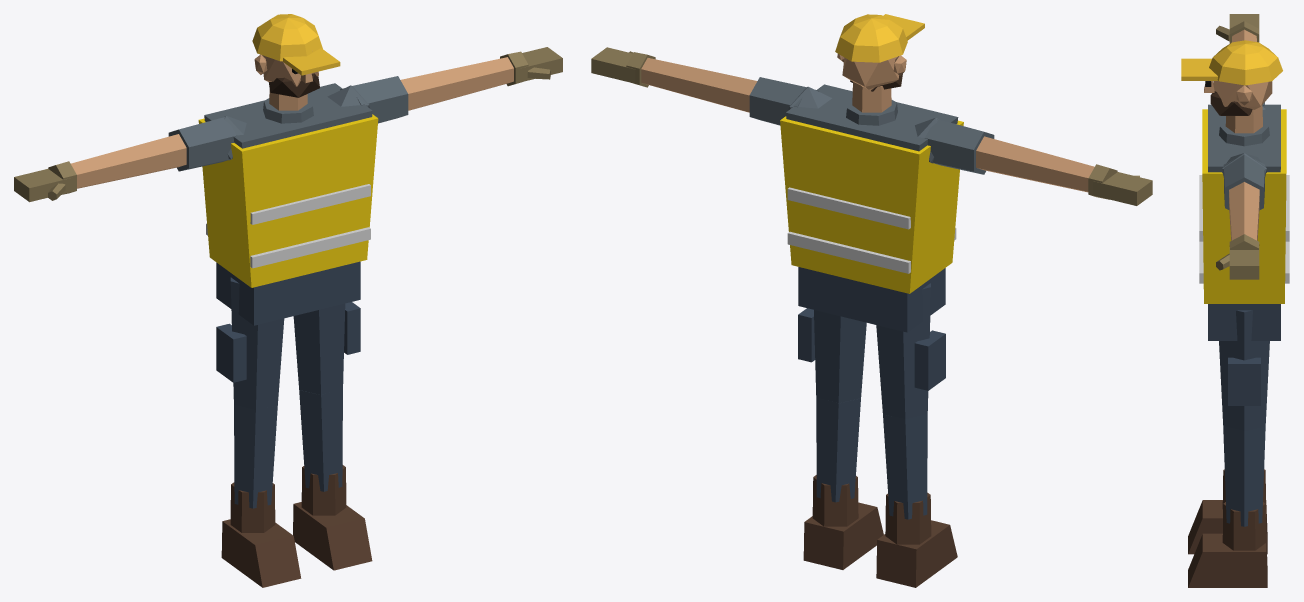
File: Civ_Worker.glb
3 views of the same model, side by side, from view 1: azimuth 30°, elevation 25°; view 2: azimuth 150°, elevation 25°; view 3: azimuth 270°, elevation 25° (orthographic). The views are drawn at different scales.
Visible parts, largest first — view 1: Civ_Worker; view 2: Civ_Worker; view 3: Civ_Worker.
Part boxes in pixels (box(x1,y1,x2,y2)): Civ_Worker: box(14, 14, 562, 587); Civ_Worker: box(591, 14, 1152, 587); Civ_Worker: box(1181, 14, 1289, 587).
Bounding box in the file's own units: 1.8 × 1.73 × 0.326.
